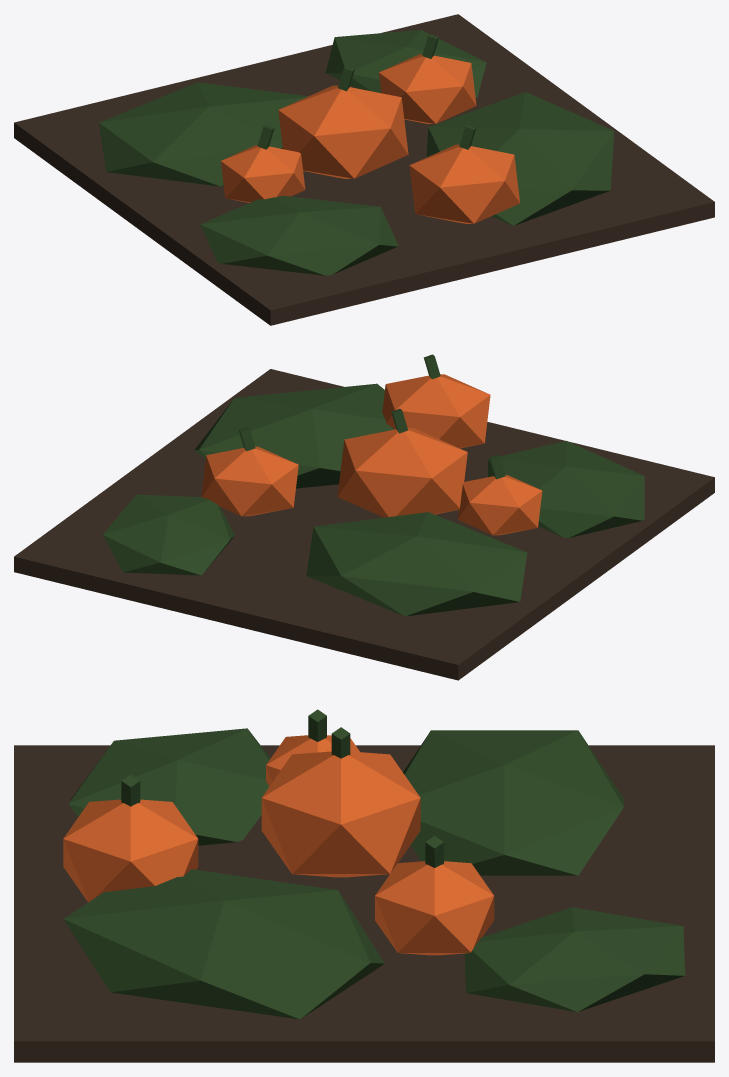
Rendered from pumpkin_patch.glb.
3 views of the same model, one above another, from view 1: azimuth 30°, elevation 25°; view 2: azimuth 150°, elevation 25°; view 3: azimuth 270°, elevation 25° (orthographic). The views are drawn at different scales.
Parts seen in each view (by area): view 1: pumpkin_patch; view 2: pumpkin_patch; view 3: pumpkin_patch.
Part boxes in pixels (x1,y1,x2,y2): pumpkin_patch: (14, 14, 714, 325); pumpkin_patch: (14, 354, 714, 680); pumpkin_patch: (14, 709, 714, 1062).
Size of the model in its own units: 1.5 by 0.3963 by 1.5.
1 material, 1 textured.
